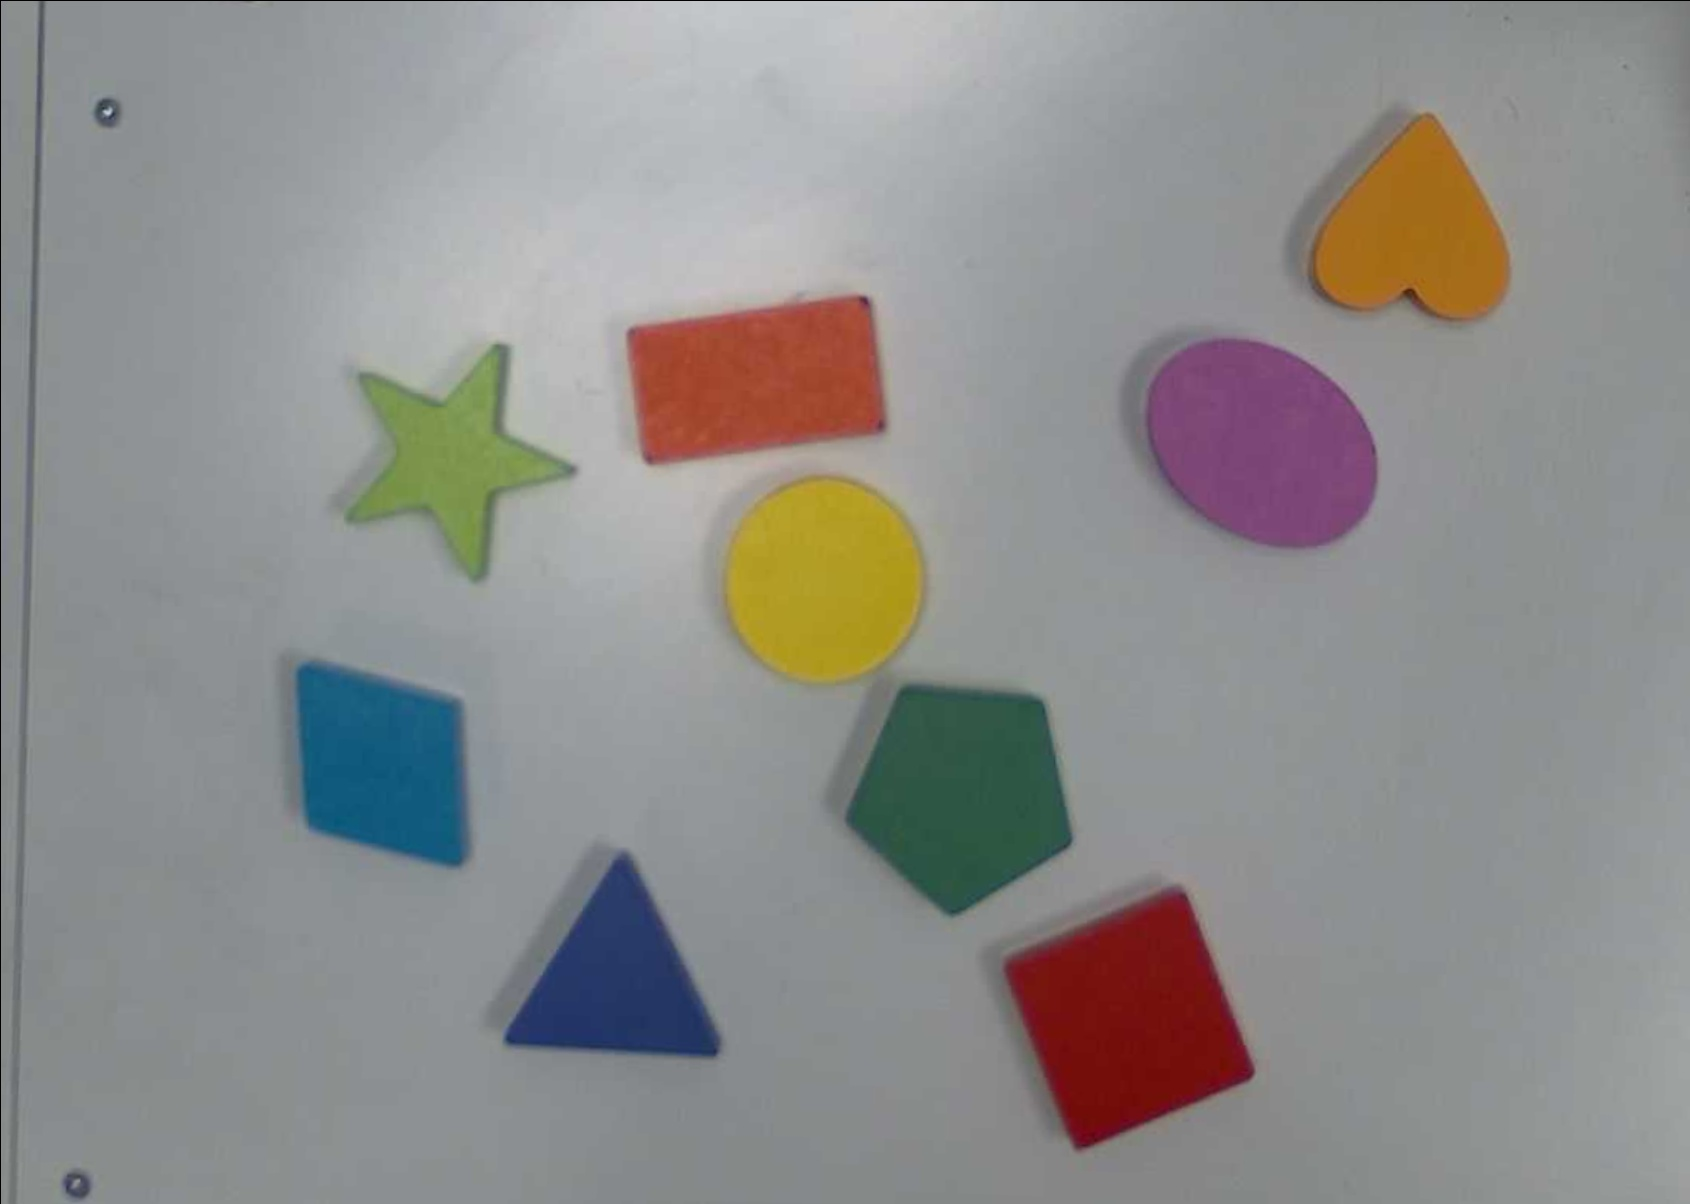Circle: (724, 474, 928, 684)
Ellipse: (1144, 336, 1380, 549)
Heart: (1311, 106, 1513, 322)
Parallelogram: (292, 655, 473, 872)
Pentagon: (842, 681, 1079, 917)
Rectangle: (628, 294, 889, 468)
Square: (998, 882, 1259, 1149)
Star: (340, 341, 585, 586)
Triangle: (503, 844, 721, 1062)
